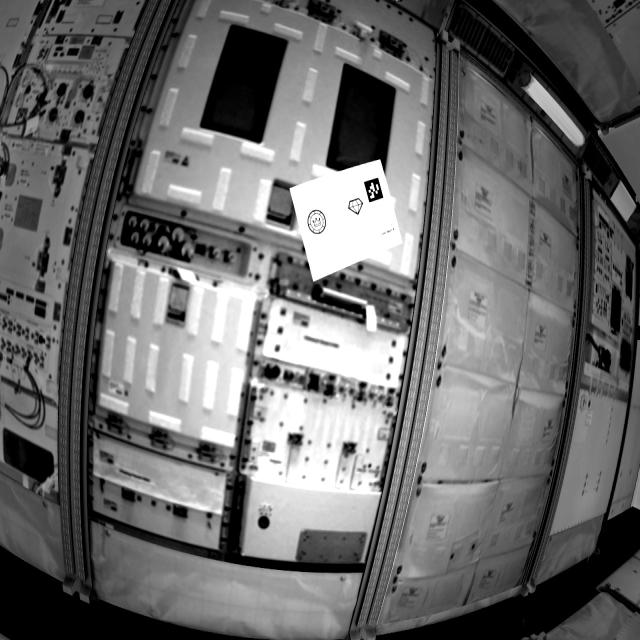coin: (307, 207, 329, 237)
diamond: (348, 196, 365, 217)
